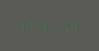nine: (17, 19, 24, 30), (73, 20, 80, 31)
one: (33, 19, 40, 30), (57, 20, 64, 31)
seven: (49, 19, 56, 31)
six: (41, 19, 48, 30)
two: (25, 19, 32, 30)
zero: (65, 20, 72, 31)
